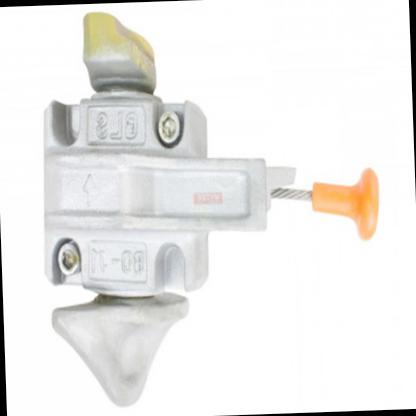Twistlock: (32, 2, 394, 414)
